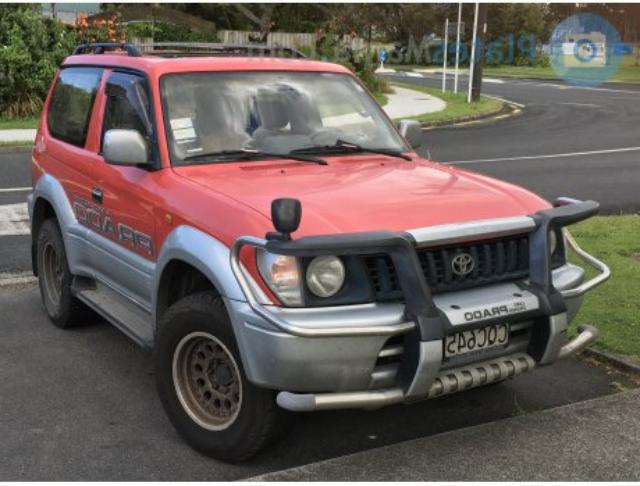Rego: (443, 321, 510, 362)
